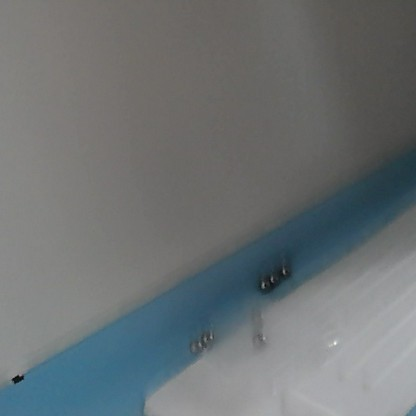ironball: (249, 330, 273, 349), (245, 306, 265, 324), (188, 339, 204, 354), (201, 328, 216, 343), (258, 279, 273, 292), (279, 263, 293, 275), (268, 272, 280, 282)
